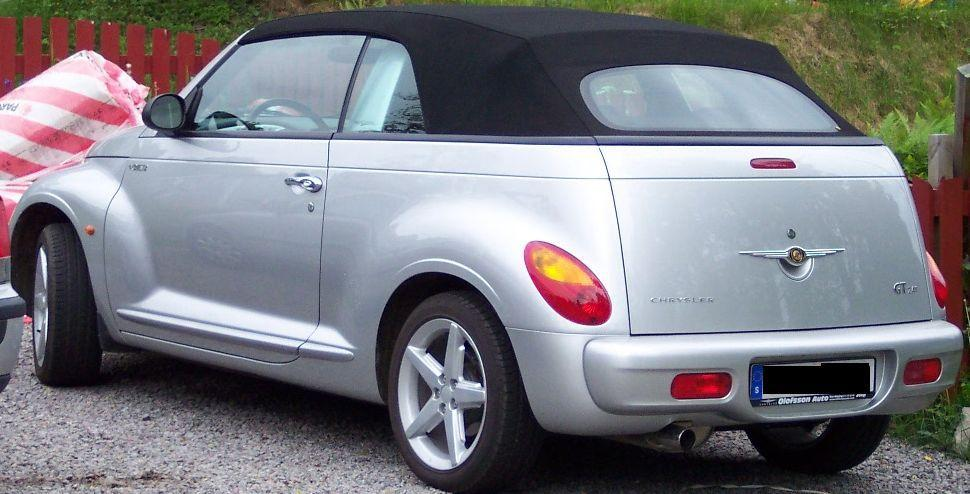Chrysler: (721, 236, 863, 274)
